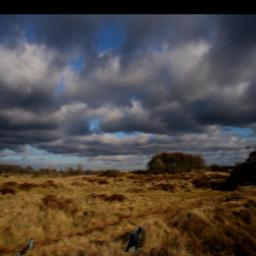Crow: (125, 227, 144, 254)
Cuckoo: (14, 239, 33, 256)
